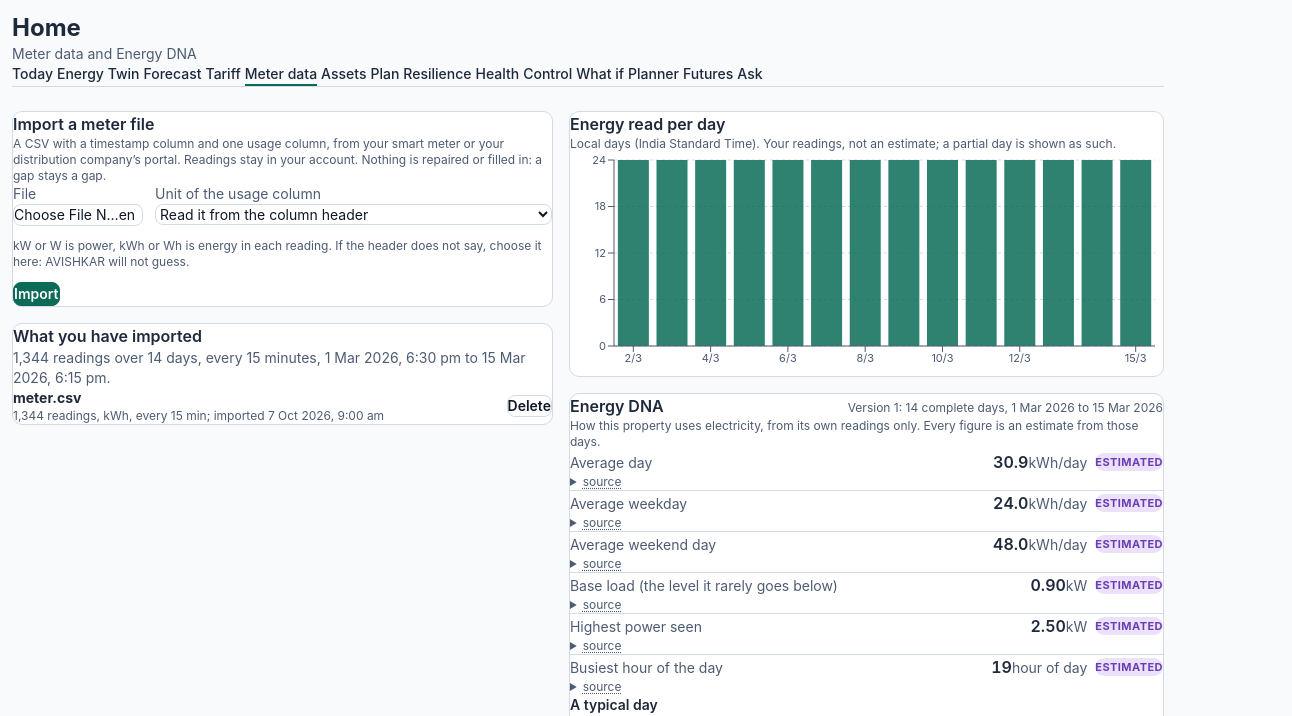
Test: MeterDataView › deletes an import and says the Energy DNA was rebuilt
Click the button with aria-label "Delete meter.csv and its readings".
click(529, 406)  # box [506, 395, 552, 417]
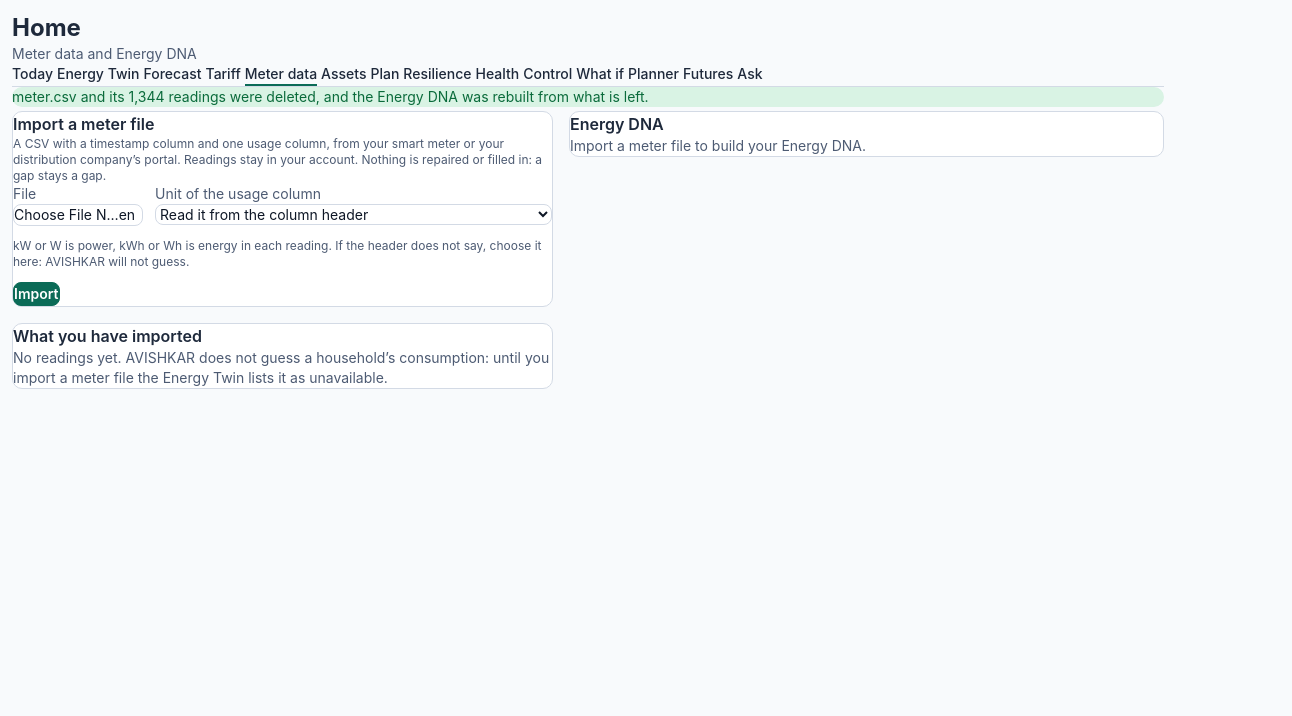
expect the text "meter.csv and its 1,344 readings were deleted, and the Energy DNA was rebuilt" is shown: met, box [12, 88, 649, 105]
expect the text "No readings yet" is shown: met, box [13, 349, 549, 386]
